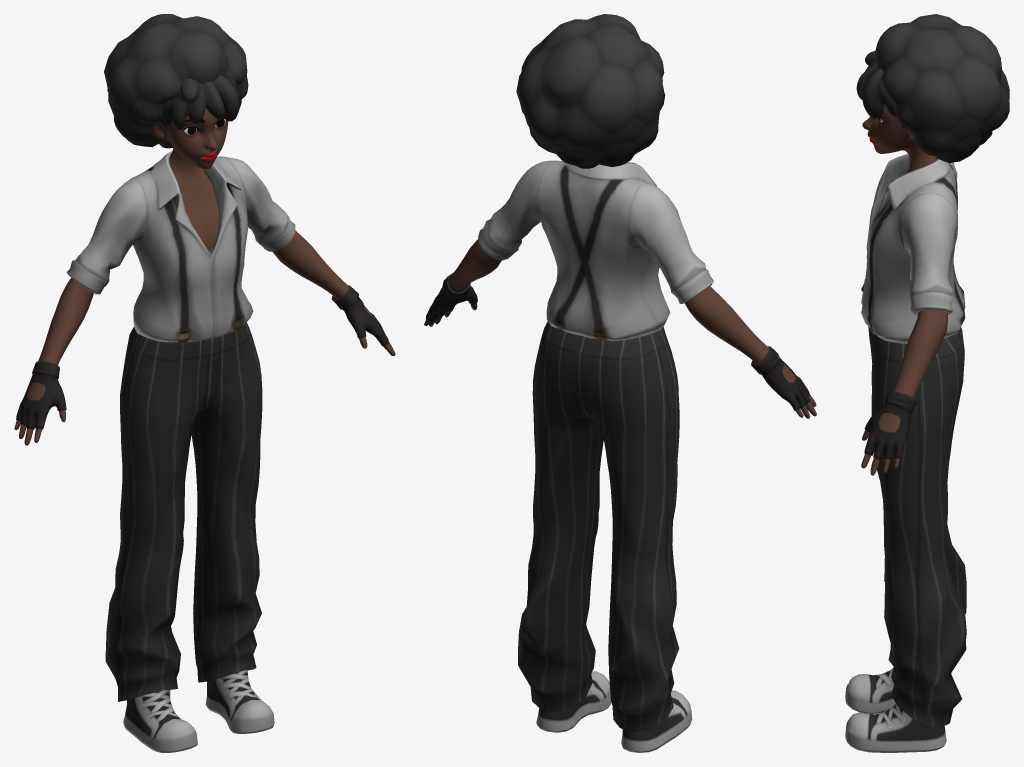
File: StaffLeaf_Mesh.obj
3 views of the same model, side by side, from view 1: azimuth 30°, elevation 25°; view 2: azimuth 150°, elevation 25°; view 3: azimuth 270°, elevation 25° (orthographic). The views are drawn at different scales.
Parts seen in each view (by area): view 1: StaffLeaf_Mesh_0; view 2: StaffLeaf_Mesh_0; view 3: StaffLeaf_Mesh_0.
Part boxes in pixels (x1,y1,x2,y2): StaffLeaf_Mesh_0: (14, 14, 395, 752); StaffLeaf_Mesh_0: (424, 14, 816, 752); StaffLeaf_Mesh_0: (845, 14, 1009, 752).
Size of the model in its own units: 1.06 by 1.89 by 0.4016.
Materials: 1 (1 with a texture image).
